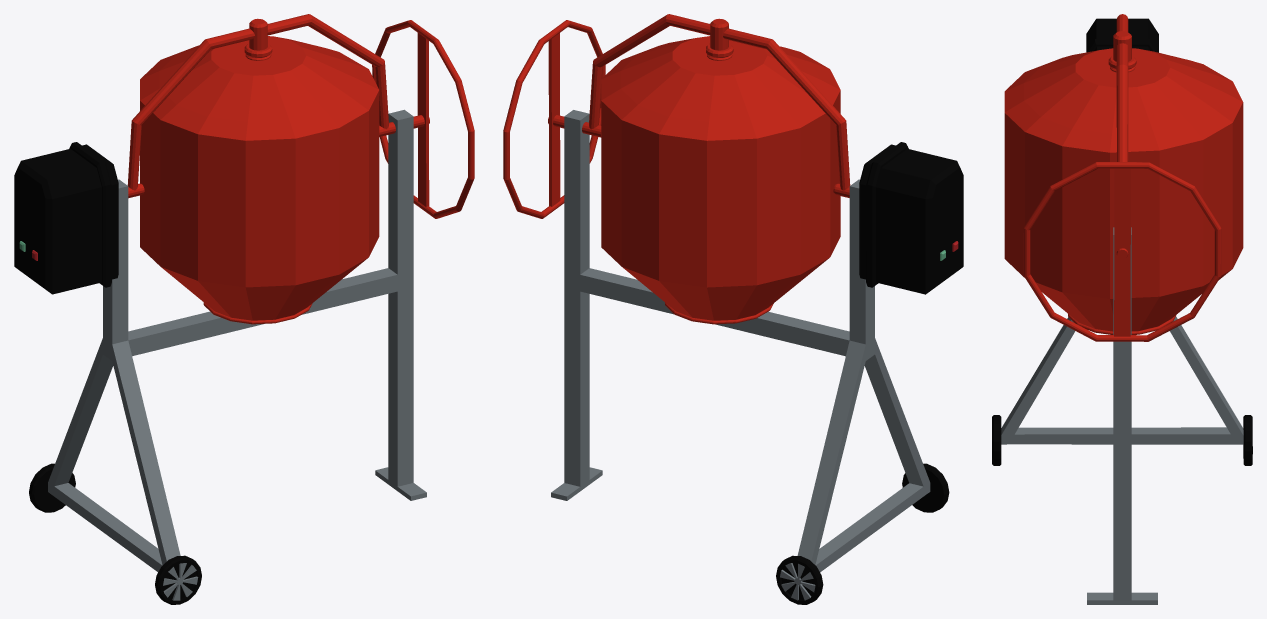
File: CementMixer.fbx
The picture shows the model from 3 angles, left to right: view 1: azimuth 30°, elevation 25°; view 2: azimuth 150°, elevation 25°; view 3: azimuth 270°, elevation 25°; orthographic projection.
Parts seen in each view (by area): view 1: Cube; view 2: Cube; view 3: Cube.
Part boxes in pixels (left/top/right/bottom): Cube: left=14, top=14, right=474, bottom=604; Cube: left=503, top=14, right=963, bottom=604; Cube: left=992, top=14, right=1252, bottom=604.
Size of the model in its own units: 169 by 202 by 95.54.
